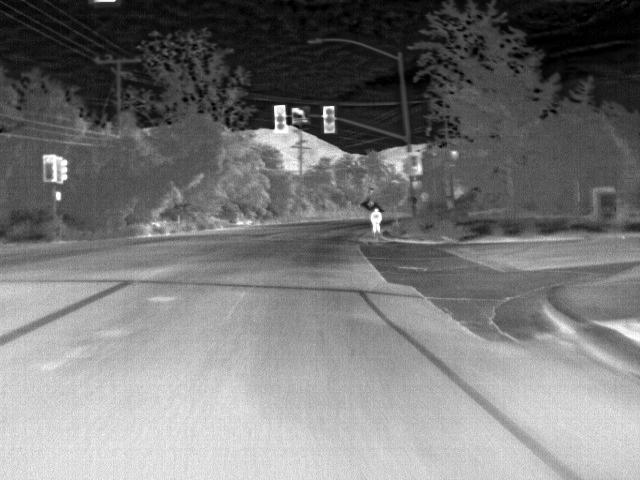person: (369, 206, 383, 236)
